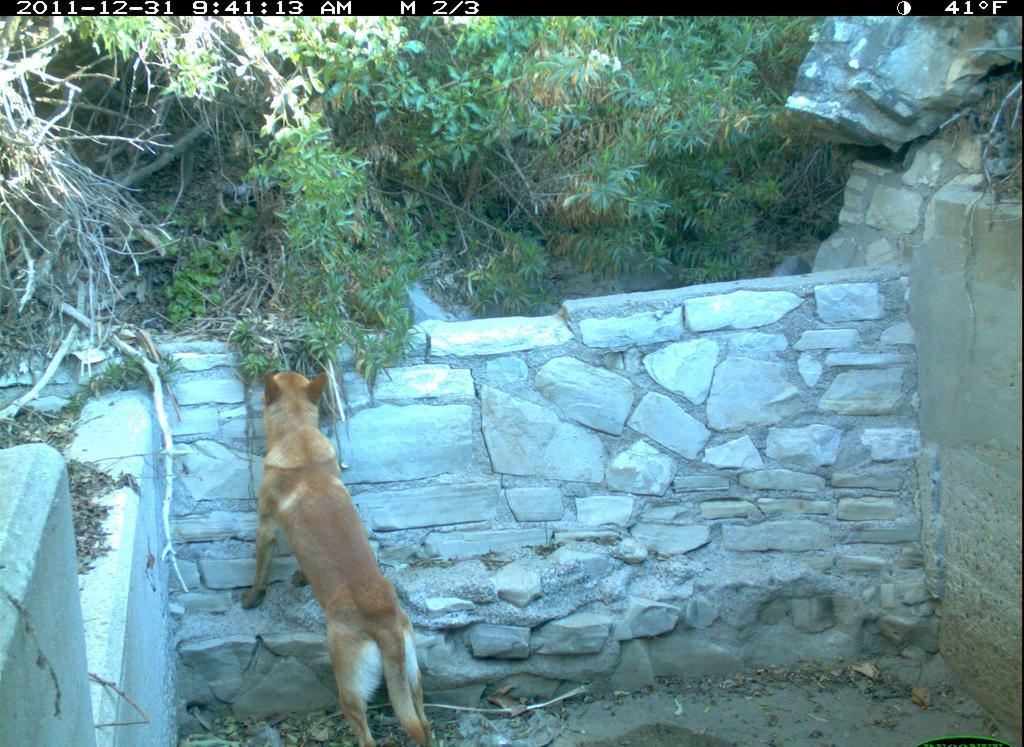dog: (228, 367, 432, 747)
